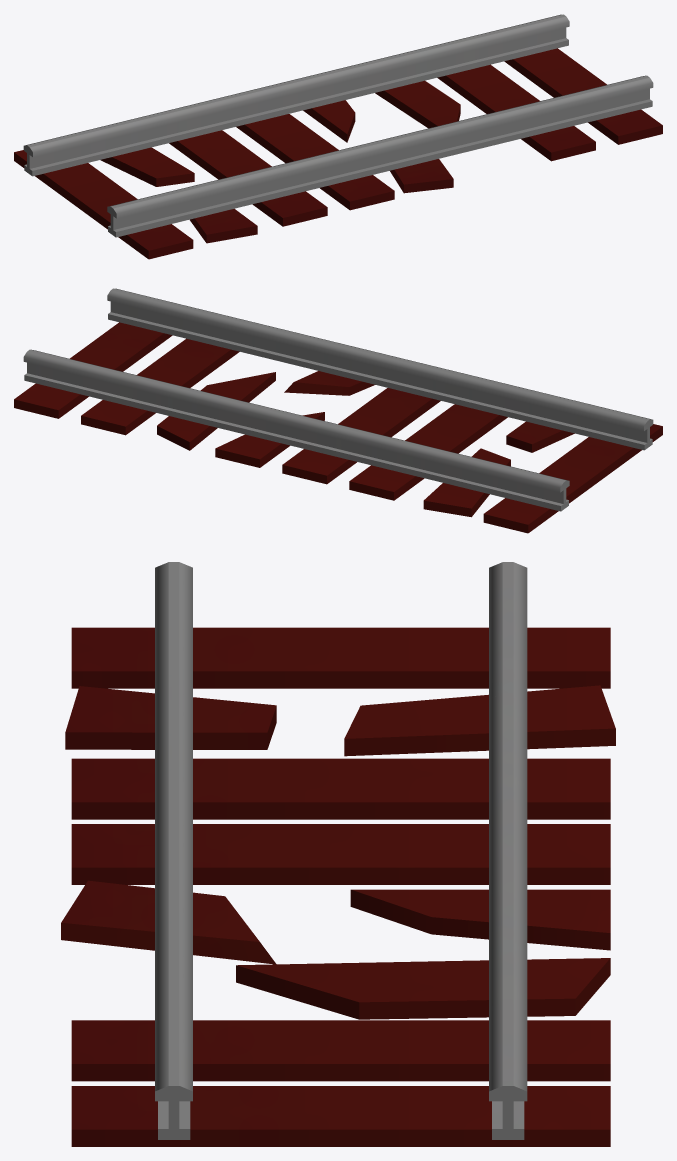
The model's file is Trilho 2.fbx.
3 renders of one model, top to bottom at view 1: azimuth 30°, elevation 25°; view 2: azimuth 150°, elevation 25°; view 3: azimuth 270°, elevation 25°, orthographic. The views are drawn at different scales.
Visible parts, largest first — view 1: Trilho 2 ferro, Trilho 2; view 2: Trilho 2 ferro, Trilho 2; view 3: Trilho 2, Trilho 2 ferro.
Boxes of the visible parts, x1,y1,x2,y2 form: Trilho 2 ferro: (23,14,653,237); Trilho 2: (14,48,662,259); Trilho 2 ferro: (23,288,653,511); Trilho 2: (14,322,662,533); Trilho 2: (61,627,615,1146); Trilho 2 ferro: (155,562,527,1139).
Bounding box in the file's own units: 1037 × 66.46 × 464.
1 material, 1 textured.
